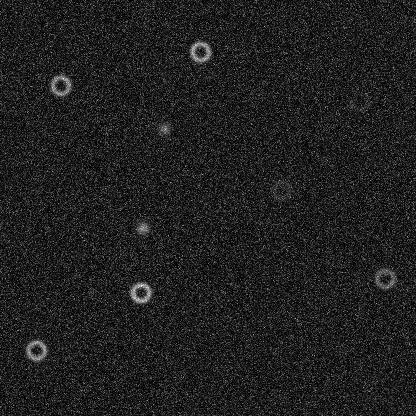Ring: (48, 73, 72, 97), (128, 280, 152, 304), (372, 266, 396, 290), (269, 178, 293, 202), (347, 90, 371, 114), (24, 338, 48, 362), (188, 39, 212, 63)
Spot: (134, 220, 150, 236), (156, 120, 172, 136)
